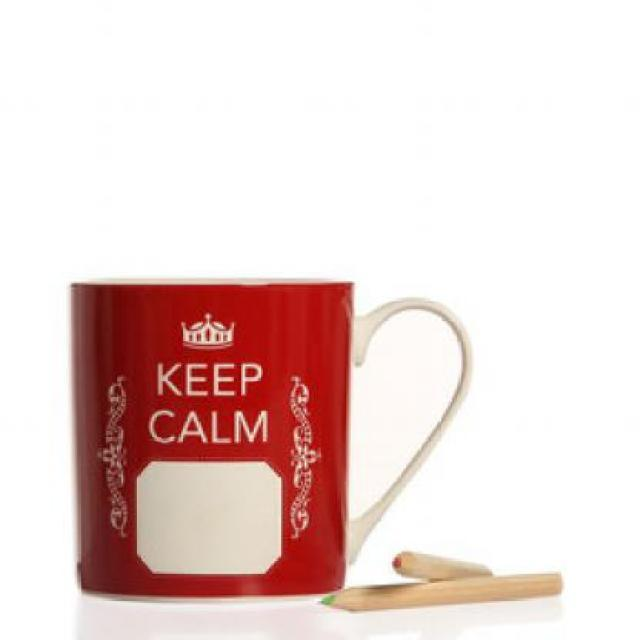taza: (68, 280, 474, 600)
